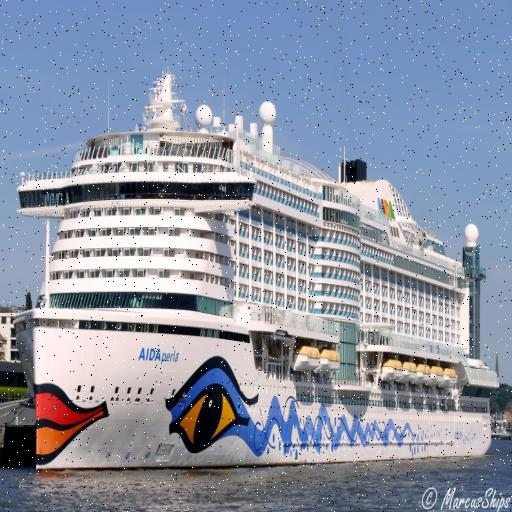cruises: (12, 65, 503, 475)
